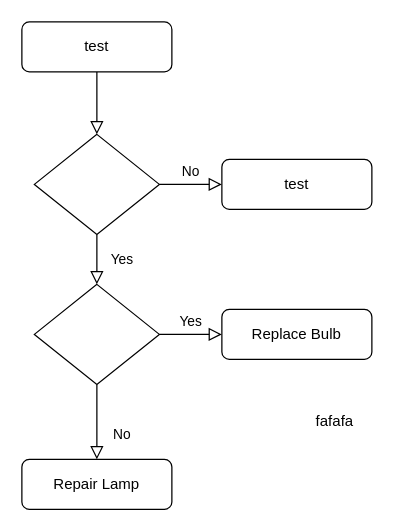
Image size: 394x531. Some labels were removed from this diagram. The shapes that lost their labels are listed below. From the top down, each one's centre as x and y in pixels, then its label:
At point (96, 183): "Lamp plugged in?".
At point (96, 333): "Bulb burned out?".
